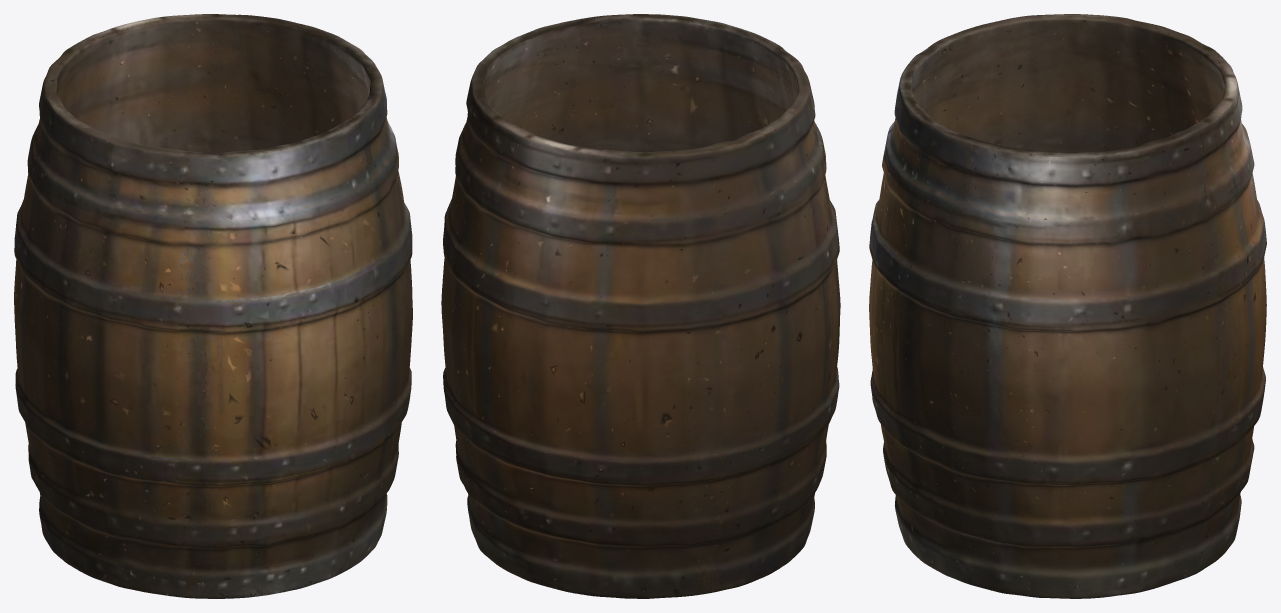
The model's file is barrel1.glb.
3 renders of one model, left to right at view 1: azimuth 30°, elevation 25°; view 2: azimuth 150°, elevation 25°; view 3: azimuth 270°, elevation 25°, orthographic.
Bounding box in the file's own units: 1.63 × 2.01 × 1.63.
Materials: 1 (1 with a texture image).
